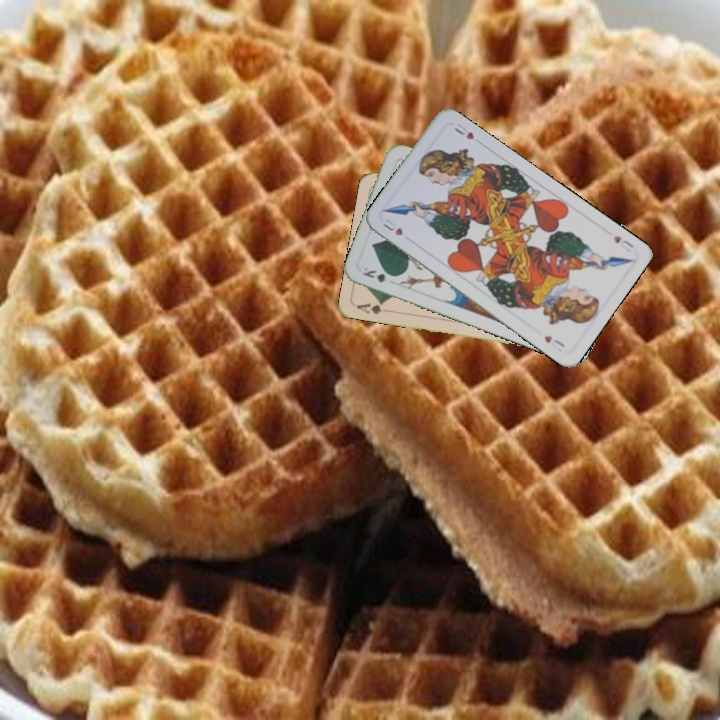GA: (352, 298, 386, 317)
GK: (359, 263, 398, 285)
HU: (379, 215, 406, 238), (609, 231, 637, 250)
